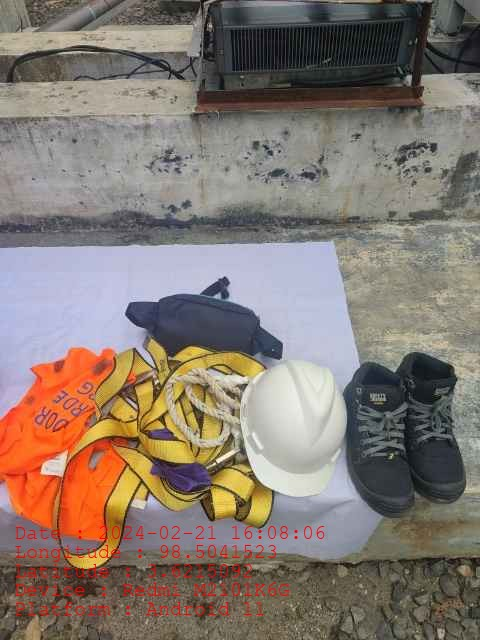HELM: (238, 361, 345, 498)
SEPATU: (346, 353, 467, 519)
